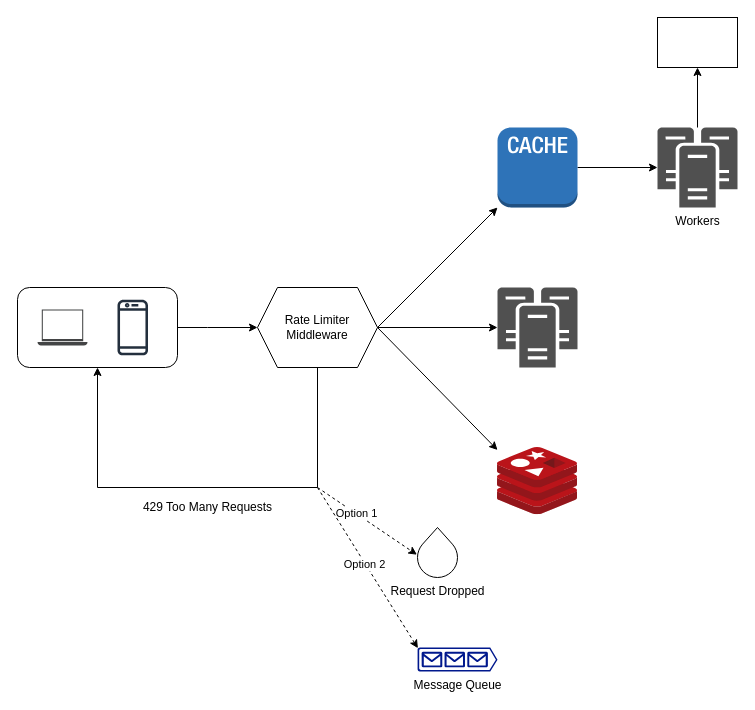
The diagram is 755 pixels wide and 710 high, and some of its shapes have lost their labels. The shapes that lost their labels are listed below. From the top down, each one's centre as x and y in pixels, then its label:
the point at 697,42: Rules
the point at 537,327: API Servers
